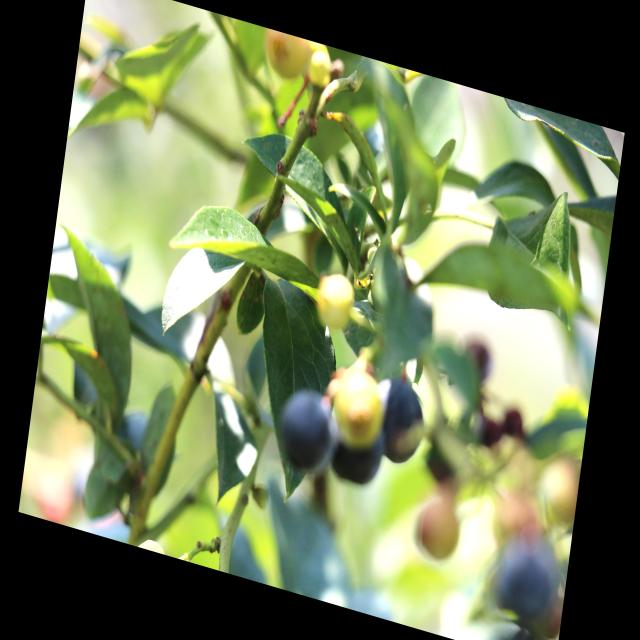blueberry: (488, 520, 571, 634), (271, 375, 348, 489), (360, 367, 436, 478), (324, 405, 391, 499)
blueberry-unripe: (329, 366, 388, 448), (409, 488, 465, 568), (258, 27, 311, 92), (314, 268, 357, 334)
